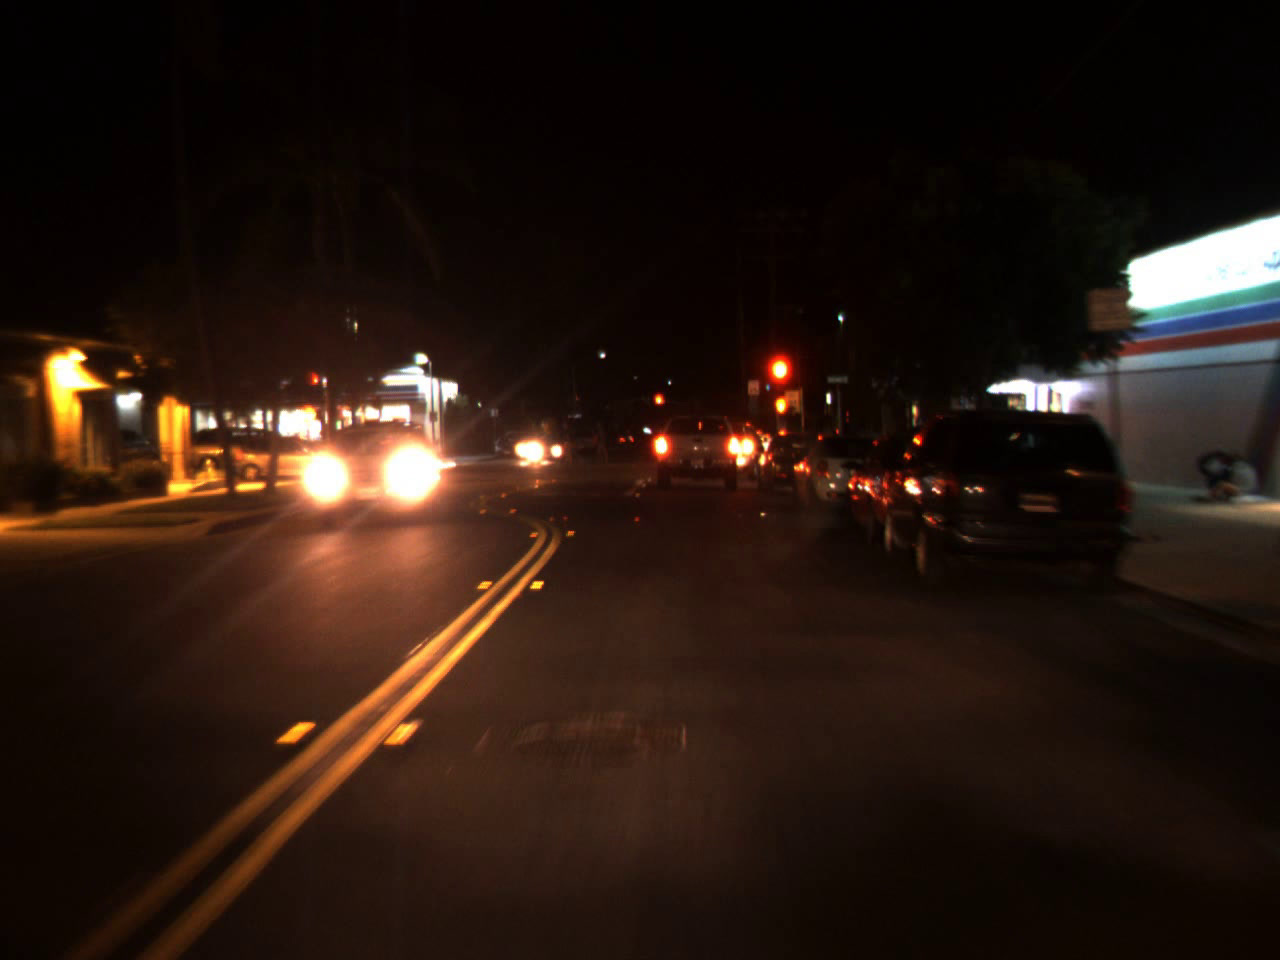stop: (762, 349, 798, 424), (653, 392, 665, 416), (310, 371, 321, 398)
